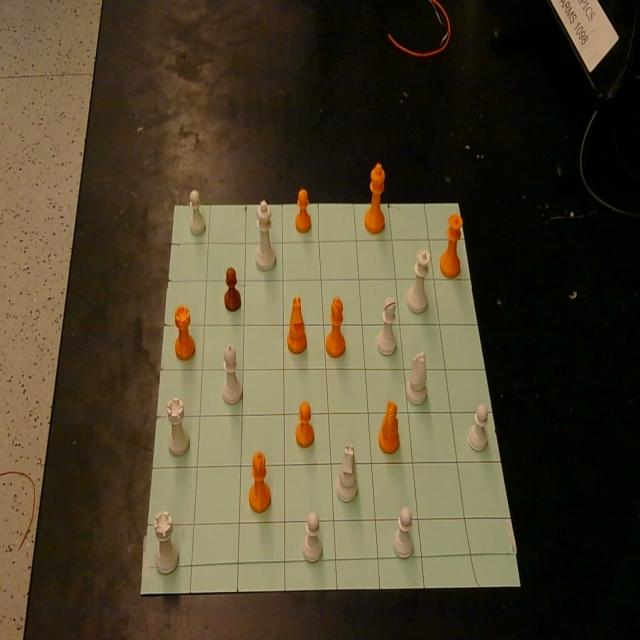orange_bishop: (248, 450, 272, 513), (326, 296, 346, 358)
orange_king: (364, 162, 385, 233)
orange_knight: (286, 295, 307, 354), (378, 400, 399, 454)
orange_pawn: (295, 400, 315, 448), (295, 187, 312, 232), (224, 266, 241, 311)
orange_queen: (440, 214, 463, 278)
orange_rook: (174, 304, 195, 360)
white_bishop: (222, 345, 243, 404), (376, 297, 396, 355)
white_king: (255, 200, 276, 269)
white_knight: (336, 444, 358, 502), (406, 352, 427, 405)
white_pawn: (392, 506, 413, 558), (468, 403, 489, 451), (302, 512, 322, 562), (189, 188, 205, 234)
white_queen: (406, 249, 429, 313)
white_rook: (153, 511, 178, 574), (166, 397, 190, 456)
